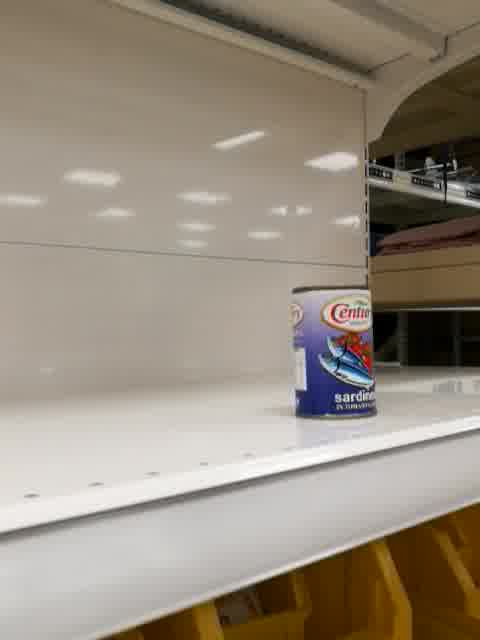sardine: (289, 284, 379, 421)
